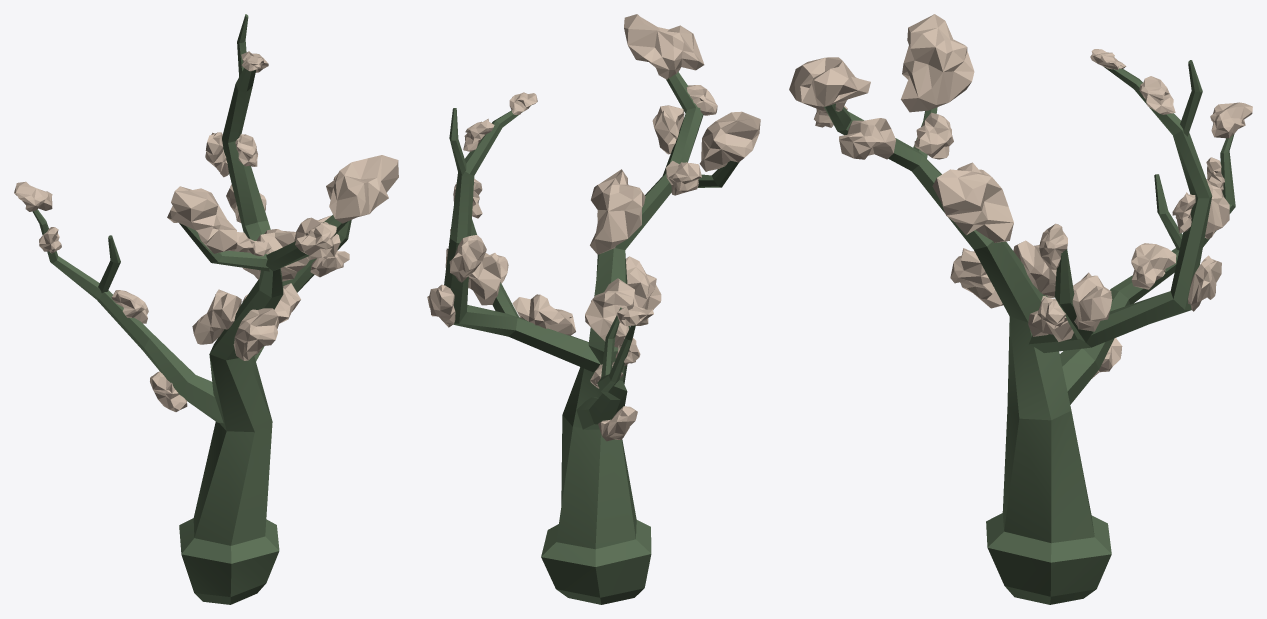
Rendered from peach tree3.fbx.
3 renders of one model, left to right at view 1: azimuth 30°, elevation 25°; view 2: azimuth 150°, elevation 25°; view 3: azimuth 270°, elevation 25°, orthographic. The views are drawn at different scales.
Parts seen in each view (by area): view 1: polySurface123; view 2: polySurface123; view 3: polySurface123.
Boxes of the visible parts, x1=… form: polySurface123: x1=14, y1=14, x2=398, y2=604; polySurface123: x1=427, y1=14, x2=760, y2=604; polySurface123: x1=789, y1=14, x2=1252, y2=604.
Bounding box in the file's own units: 197 × 348 × 253.
